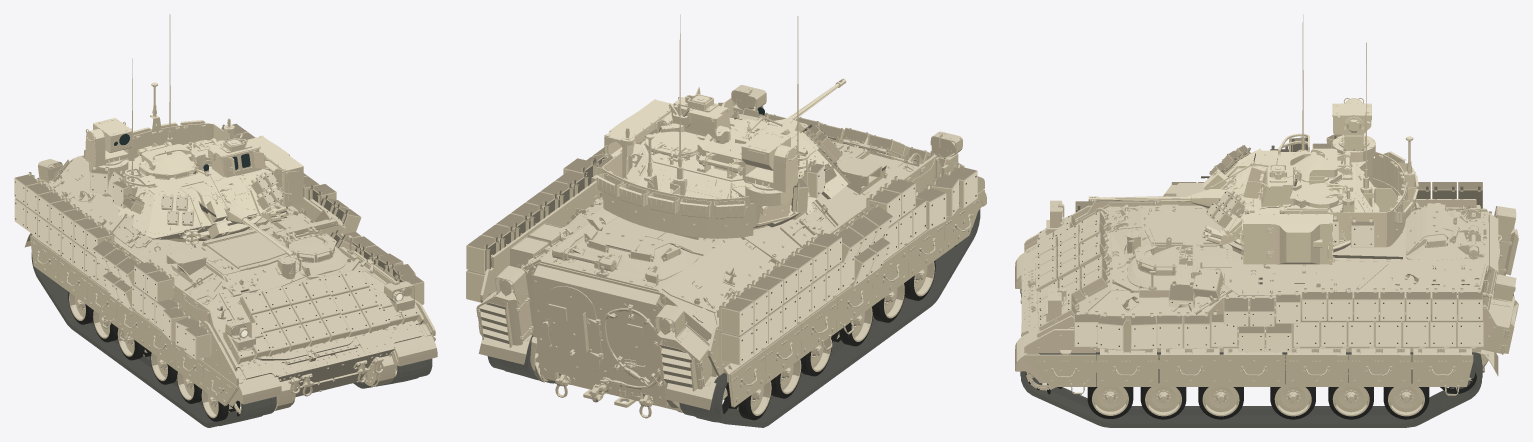
The model's file is m3a3_bradley_era.glb.
The picture shows the model from 3 angles, left to right: view 1: azimuth 30°, elevation 25°; view 2: azimuth 150°, elevation 25°; view 3: azimuth 270°, elevation 25°; orthographic projection. The views are drawn at different scales.
Parts seen in each view (by area): view 1: WT_@root, WT_bone_turret, WT_track_r, WT_hatch_01, WT_roll_05, WT_hatch_02, WT_ex_decor_r_05, WT_ex_armor_03, WT_hatch_06, WT_ex_decor_l_04, WT_ex_armor_r_05, WT_ex_armor_r_06 (+55 smaller); view 2: WT_@root, WT_bone_turret, WT_rear_ramp, WT_track_r, WT_hatch_04, WT_hatch_05, WT_ex_decor_r_04, WT_ex_decor_l_09, WT_roll_05, WT_ex_armor_03, WT_ex_armor_r_05, WT_ex_armor_r_06 (+41 smaller); view 3: WT_@root, WT_bone_turret, WT_track_l, WT_roll_05, WT_hatch_05, WT_hatch_01, WT_ex_armor_l_03, WT_ex_armor_l_04, WT_ex_armor_l_05, WT_ex_armor_l_02, WT_ex_armor_l_06, WT_ex_armor_l_01 (+48 smaller).
Boxes of the visible parts, x1=… form: WT_@root: x1=33, y1=149, x2=435, y2=410; WT_bone_turret: x1=89, y1=82, x2=289, y2=244; WT_track_r: x1=31, y1=252, x2=276, y2=427; WT_hatch_01: x1=280, y1=227, x2=346, y2=275; WT_roll_05: x1=246, y1=135, x2=303, y2=206; WT_hatch_02: x1=137, y1=141, x2=194, y2=172; WT_ex_decor_r_05: x1=228, y1=374, x2=281, y2=406; WT_ex_armor_03: x1=85, y1=121, x2=130, y2=166; WT_hatch_06: x1=228, y1=304, x2=354, y2=360; WT_ex_decor_l_04: x1=393, y1=335, x2=437, y2=366; WT_ex_armor_r_05: x1=87, y1=277, x2=116, y2=328; WT_ex_armor_r_06: x1=58, y1=255, x2=89, y2=305; WT_@root: x1=480, y1=122, x2=984, y2=412; WT_bone_turret: x1=595, y1=87, x2=850, y2=238; WT_rear_ramp: x1=531, y1=264, x2=668, y2=407; WT_track_r: x1=679, y1=209, x2=980, y2=427; WT_hatch_04: x1=541, y1=286, x2=602, y2=375; WT_hatch_05: x1=564, y1=225, x2=698, y2=280; WT_ex_decor_r_04: x1=654, y1=301, x2=717, y2=391; WT_ex_decor_l_09: x1=476, y1=266, x2=536, y2=347; WT_roll_05: x1=602, y1=99, x2=673, y2=162; WT_ex_armor_03: x1=742, y1=136, x2=797, y2=192; WT_ex_armor_r_05: x1=799, y1=296, x2=836, y2=358; WT_ex_armor_r_06: x1=763, y1=323, x2=801, y2=384; WT_@root: x1=1017, y1=183, x2=1496, y2=372; WT_bone_turret: x1=1202, y1=133, x2=1418, y2=252; WT_track_l: x1=1020, y1=352, x2=1482, y2=427; WT_roll_05: x1=1243, y1=206, x2=1334, y2=264; WT_hatch_05: x1=1405, y1=203, x2=1478, y2=260; WT_hatch_01: x1=1127, y1=237, x2=1190, y2=288; WT_ex_armor_l_03: x1=1159, y1=354, x2=1222, y2=386; WT_ex_armor_l_04: x1=1222, y1=354, x2=1285, y2=386; WT_ex_armor_l_05: x1=1285, y1=354, x2=1348, y2=386; WT_ex_armor_l_02: x1=1096, y1=354, x2=1158, y2=386; WT_ex_armor_l_06: x1=1349, y1=354, x2=1411, y2=386; WT_ex_armor_l_01: x1=1024, y1=354, x2=1095, y2=394.
Size of the model in its own units: 3.85 by 4.77 by 6.58.
